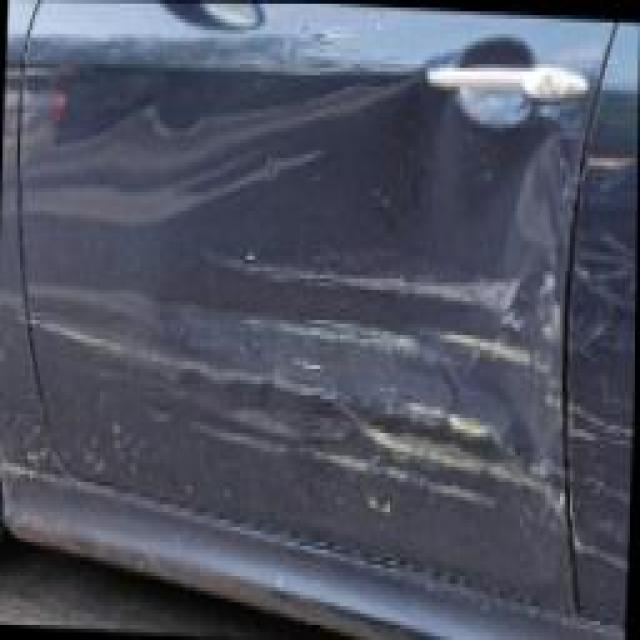Door: (25, 8, 579, 581), (558, 132, 638, 588)
